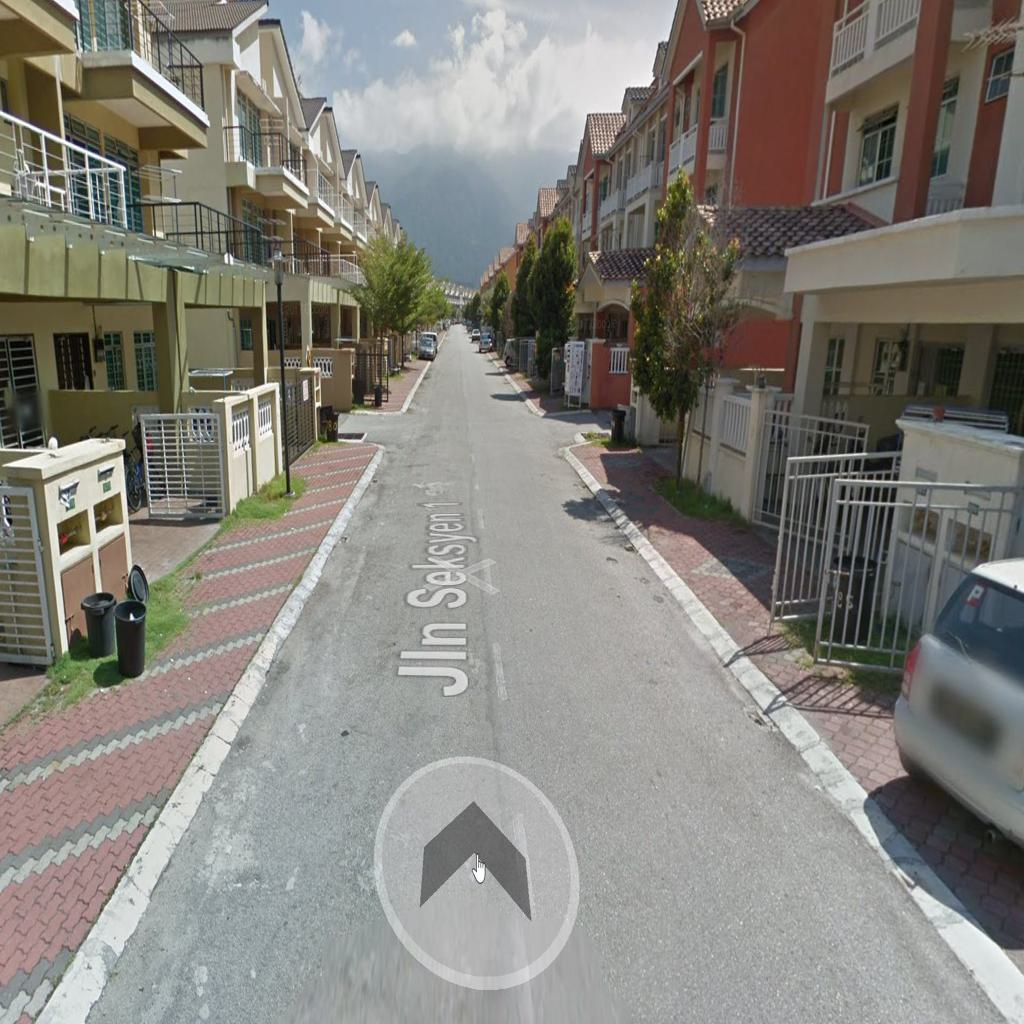Junction: (511, 383, 638, 462), (331, 376, 424, 460)
